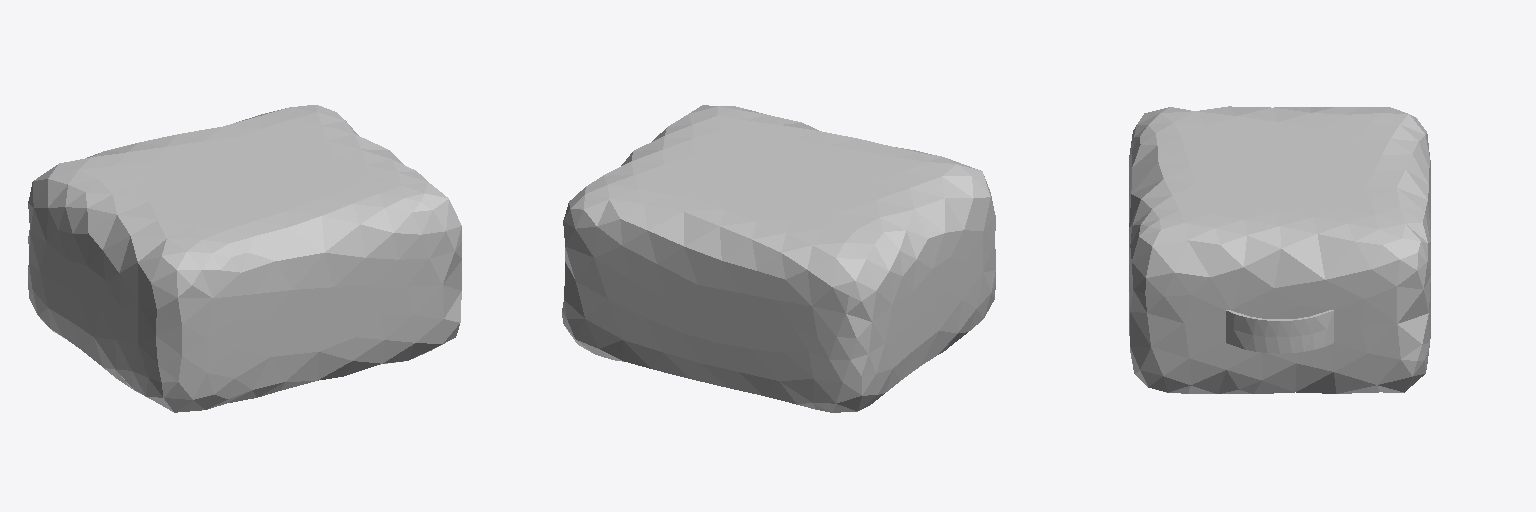
Rendered from right_handle.obj.
3 views of the same model, side by side, from view 1: azimuth 30°, elevation 25°; view 2: azimuth 150°, elevation 25°; view 3: azimuth 270°, elevation 25° (orthographic).
Visible parts, largest first — view 1: right_handle; view 2: right_handle; view 3: right_handle.
Boxes of the visible parts, x1=… form: right_handle: x1=28, y1=105, x2=461, y2=412; right_handle: x1=562, y1=105, x2=995, y2=412; right_handle: x1=1129, y1=106, x2=1430, y2=393.
Size of the model in its own units: 0.535 by 0.25 by 0.42.